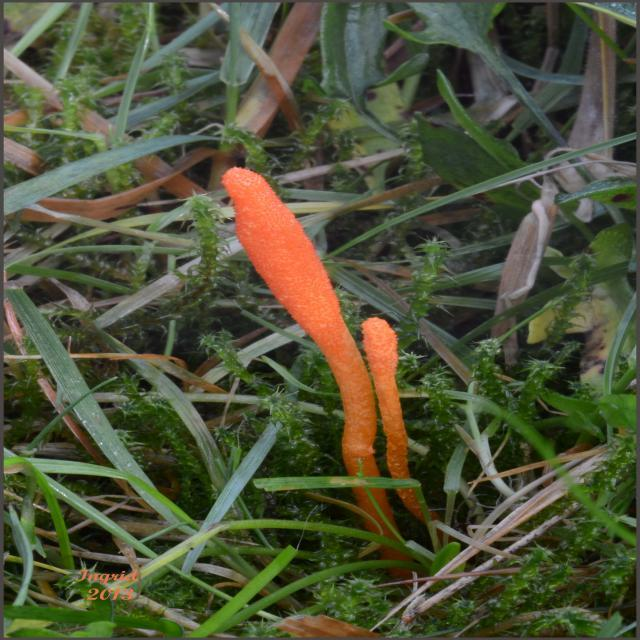Cordyceps militaris: (221, 166, 441, 555)
